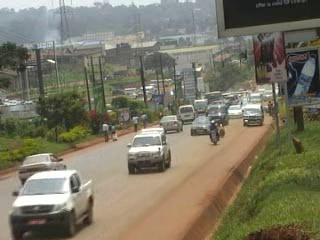Car: (126, 124, 173, 175), (16, 148, 69, 188), (188, 113, 216, 138), (205, 103, 230, 127), (158, 113, 184, 136), (226, 99, 244, 119)
Motorcycle: (206, 118, 221, 145), (216, 119, 226, 139)
